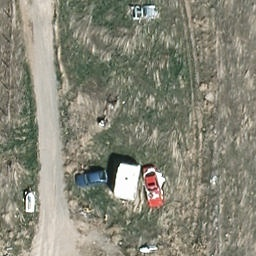camping car: (111, 163, 141, 201)
car: (141, 167, 164, 209), (76, 170, 109, 187)
